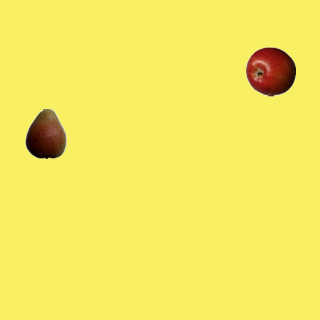Apple Braeburn: (245, 46, 295, 96)
Pear Forelle: (20, 108, 70, 158)
